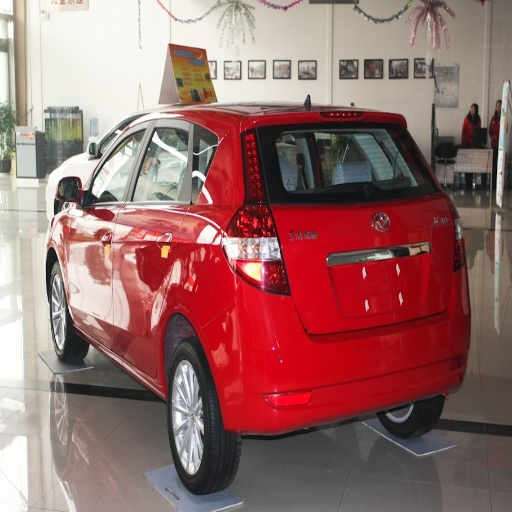back_bumper: (210, 273, 469, 437)
back_glass: (269, 127, 429, 190)
back_left_door: (119, 119, 193, 371)
tailgate: (263, 161, 435, 332)
trunk: (387, 195, 448, 321)
